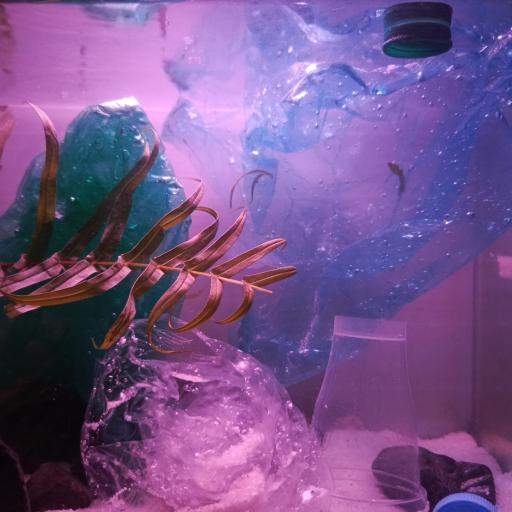bottle_cap: (386, 21, 452, 61), (430, 490, 502, 512)
plastic_bag: (156, 0, 512, 389), (1, 98, 194, 464), (81, 315, 335, 510)
plastic_cup: (302, 313, 428, 512)
